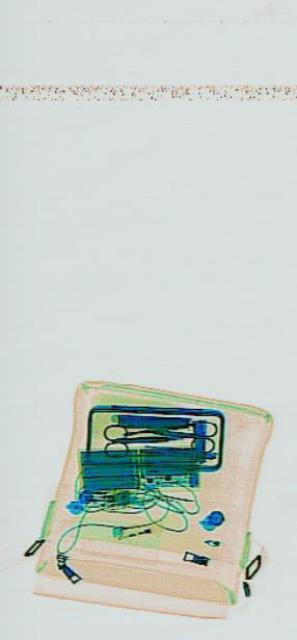Scissors: (146, 413, 215, 453), (101, 421, 162, 457)
